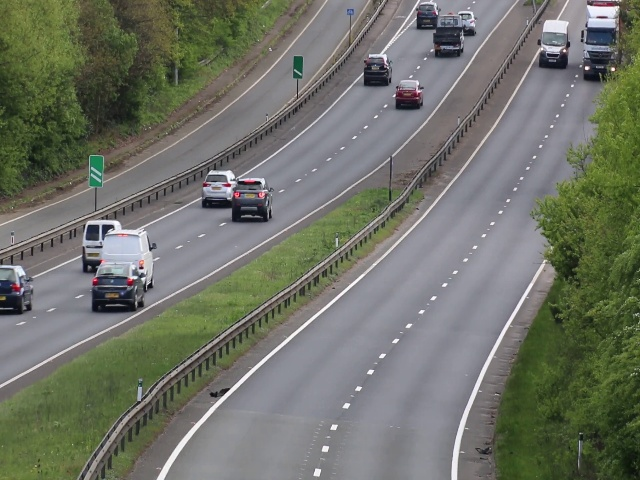car: (582, 5, 619, 80), (102, 228, 153, 281), (92, 264, 143, 310), (82, 219, 121, 272), (232, 177, 272, 224), (538, 18, 570, 71), (1, 263, 33, 310), (434, 14, 464, 56), (202, 167, 233, 205), (363, 49, 392, 87), (395, 79, 424, 109), (415, 1, 438, 29)
